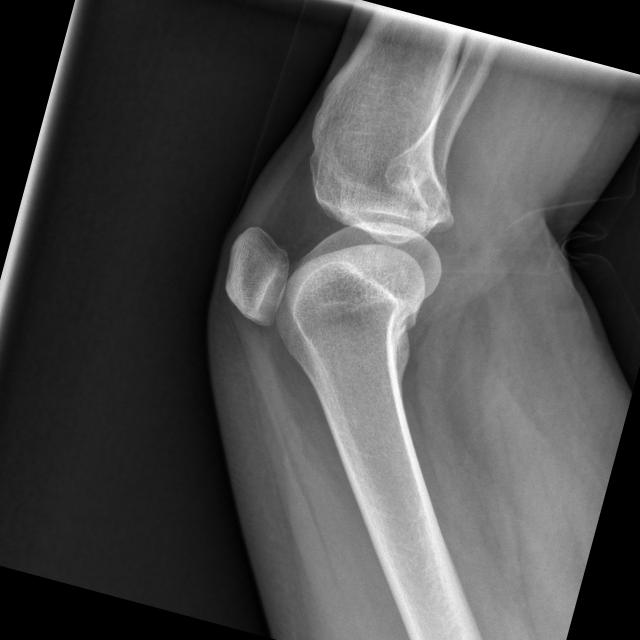Knee: (212, 128, 470, 372)
